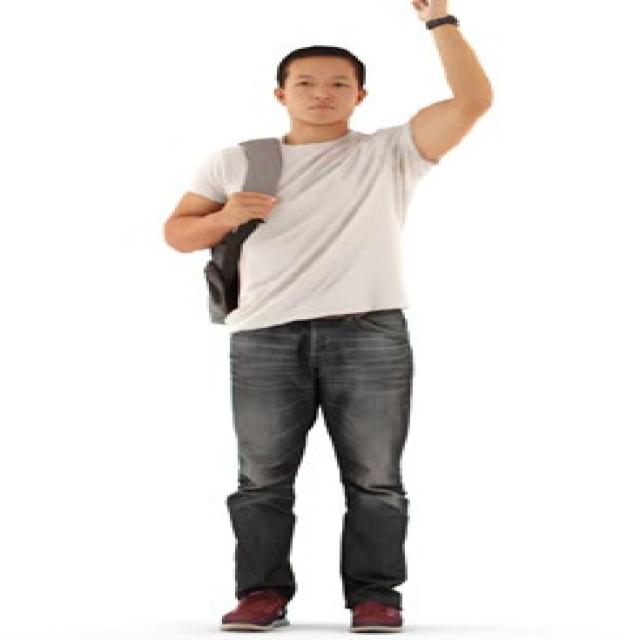standing: (160, 1, 503, 637)
